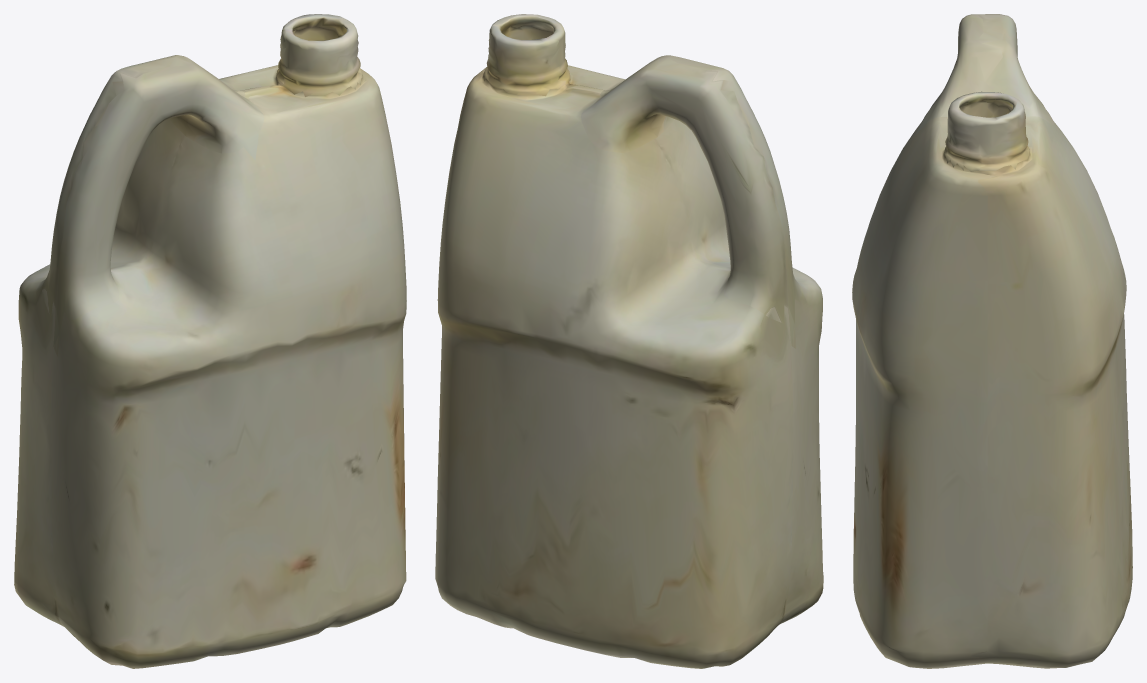
Rendered from plastic-bottle-gallon.glb.
3 renders of one model, left to right at view 1: azimuth 30°, elevation 25°; view 2: azimuth 150°, elevation 25°; view 3: azimuth 270°, elevation 25°, orthographic.
Visible parts, largest first — view 1: plastic_bottle_gallon; view 2: plastic_bottle_gallon; view 3: plastic_bottle_gallon.
Part boxes in pixels (x1=…): plastic_bottle_gallon: x1=14, y1=14, x2=406, y2=668; plastic_bottle_gallon: x1=435, y1=14, x2=823, y2=668; plastic_bottle_gallon: x1=852, y1=14, x2=1132, y2=668.
Bounding box in the file's own units: 0.1662 × 0.2745 × 0.1264.
1 material, 1 textured.
